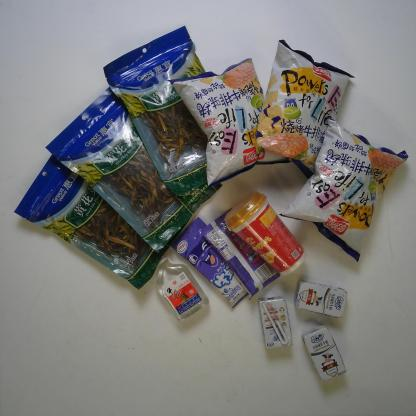Alcohol: (154, 256, 209, 321)
Candy: (170, 216, 248, 309), (202, 206, 280, 298)
Dried Food: (44, 86, 223, 252), (13, 156, 189, 290), (103, 24, 210, 194)
Instant Drink: (224, 191, 308, 276)
Milk: (301, 324, 346, 381), (294, 280, 347, 319), (257, 296, 293, 349)
Puffed Food: (283, 118, 409, 262), (166, 58, 290, 187), (256, 38, 357, 181)
